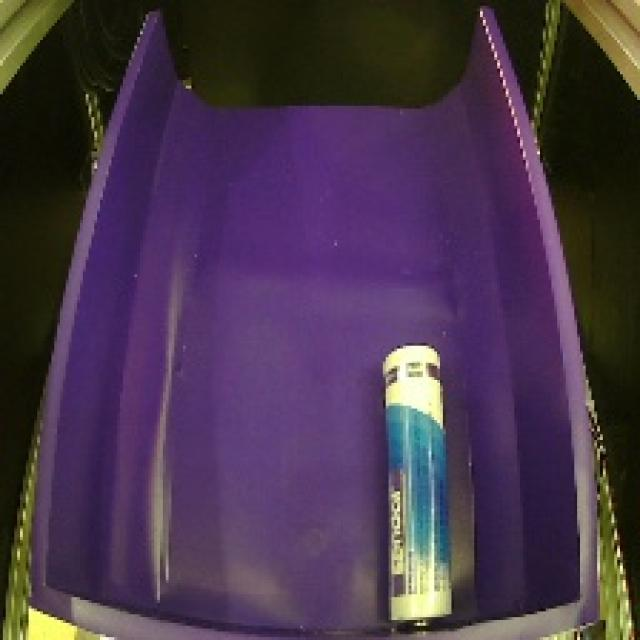battery: (369, 335, 459, 639)
